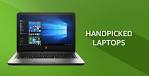laptop: (7, 8, 84, 64)
